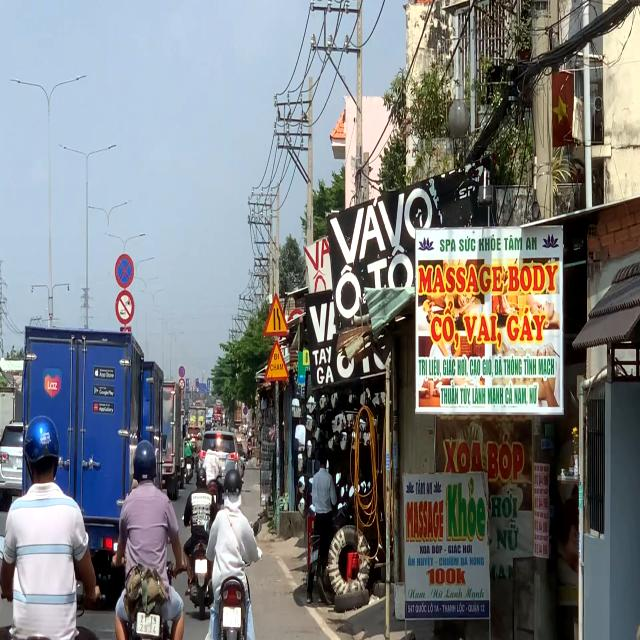P.130: (114, 252, 135, 291)
P.245a: (264, 339, 290, 382)
W.203c: (263, 292, 290, 338)
